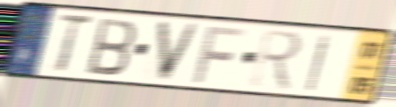B: (84, 16, 139, 78)
F: (190, 24, 249, 86)
I: (303, 33, 334, 94)
R: (248, 27, 305, 93)
T: (53, 13, 96, 75)
V: (155, 18, 203, 84)
